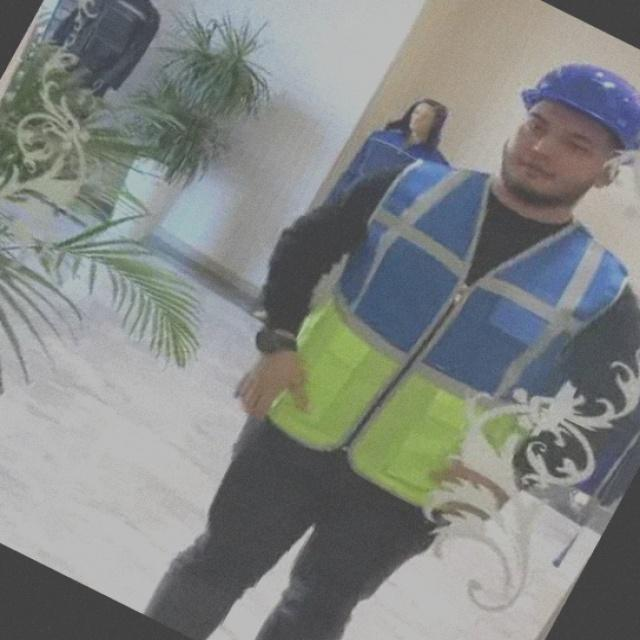helmet: (516, 44, 638, 164)
safety_vest: (256, 154, 638, 539)
